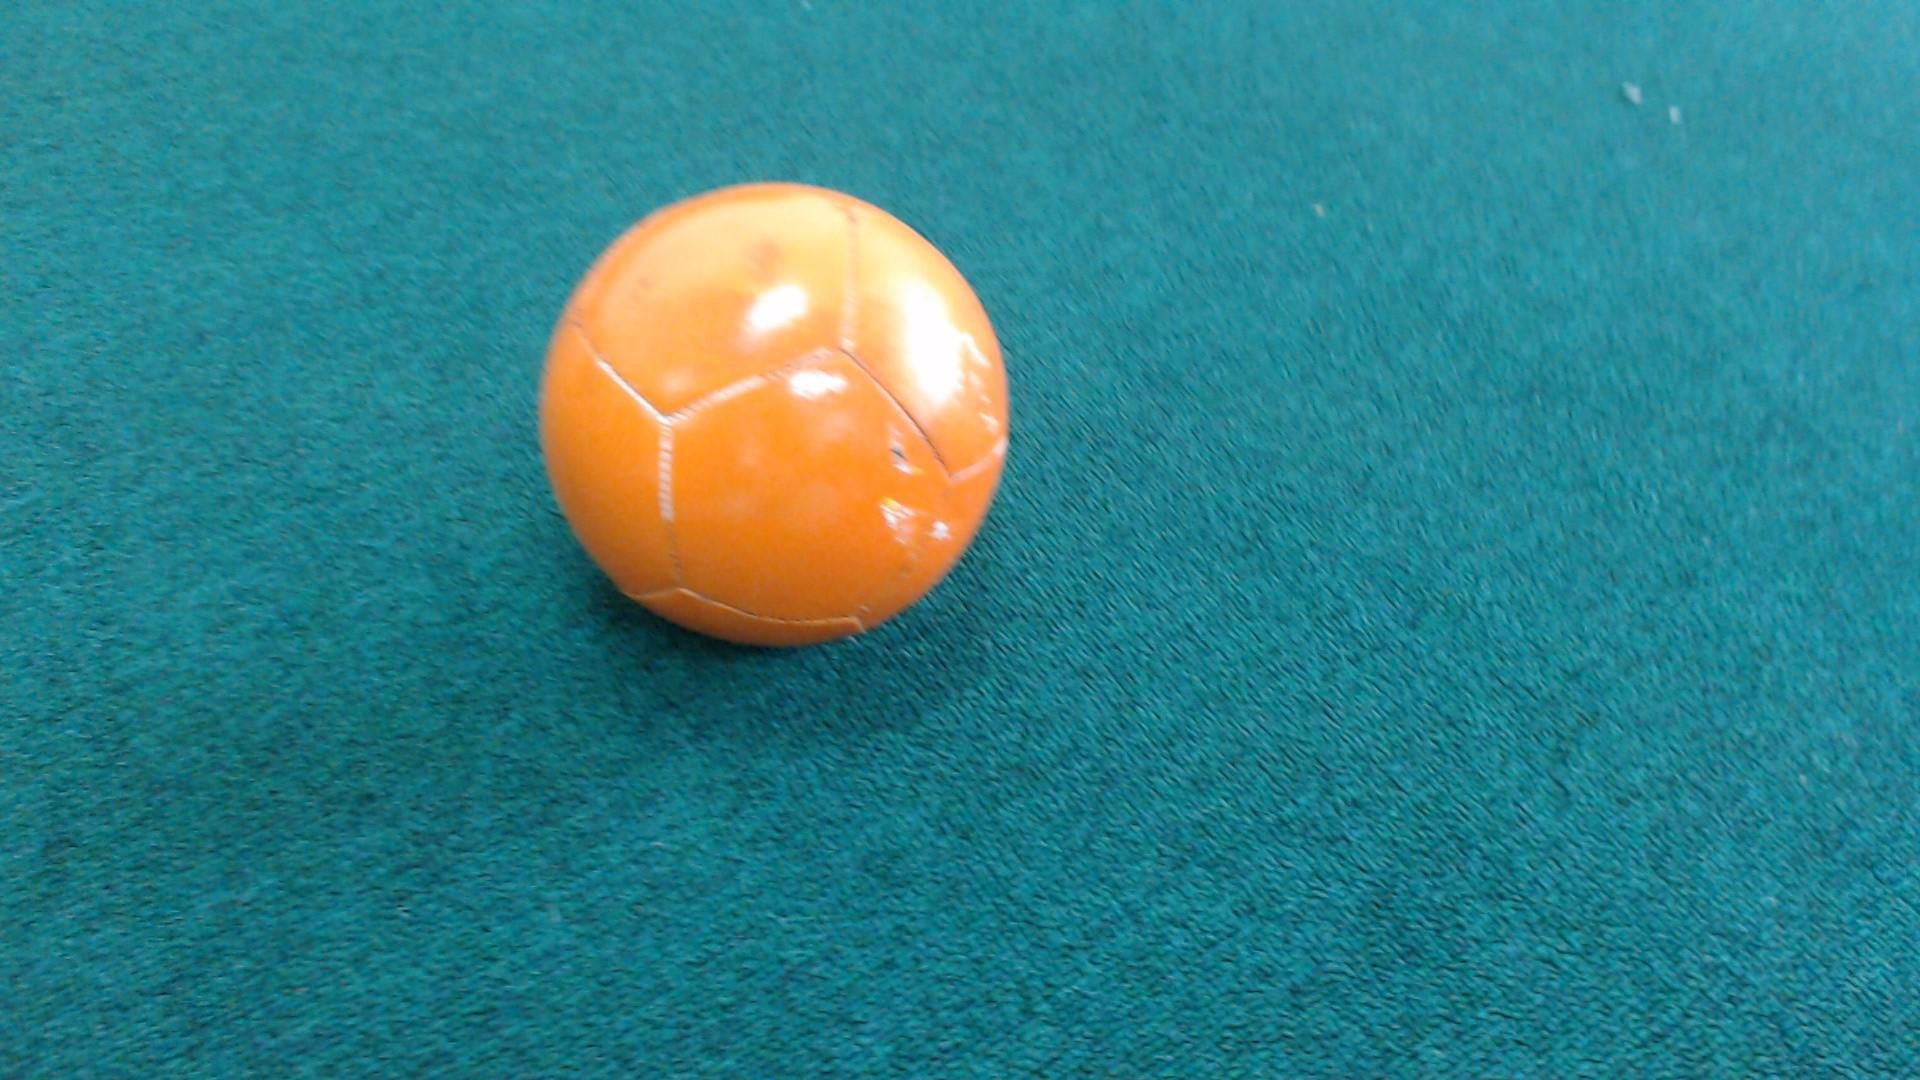bola: (527, 169, 1025, 659)
